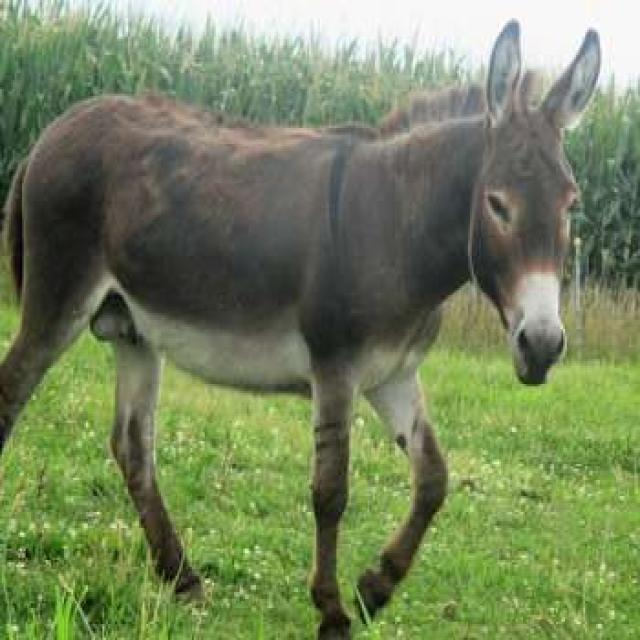Donkey: (0, 19, 604, 638)
